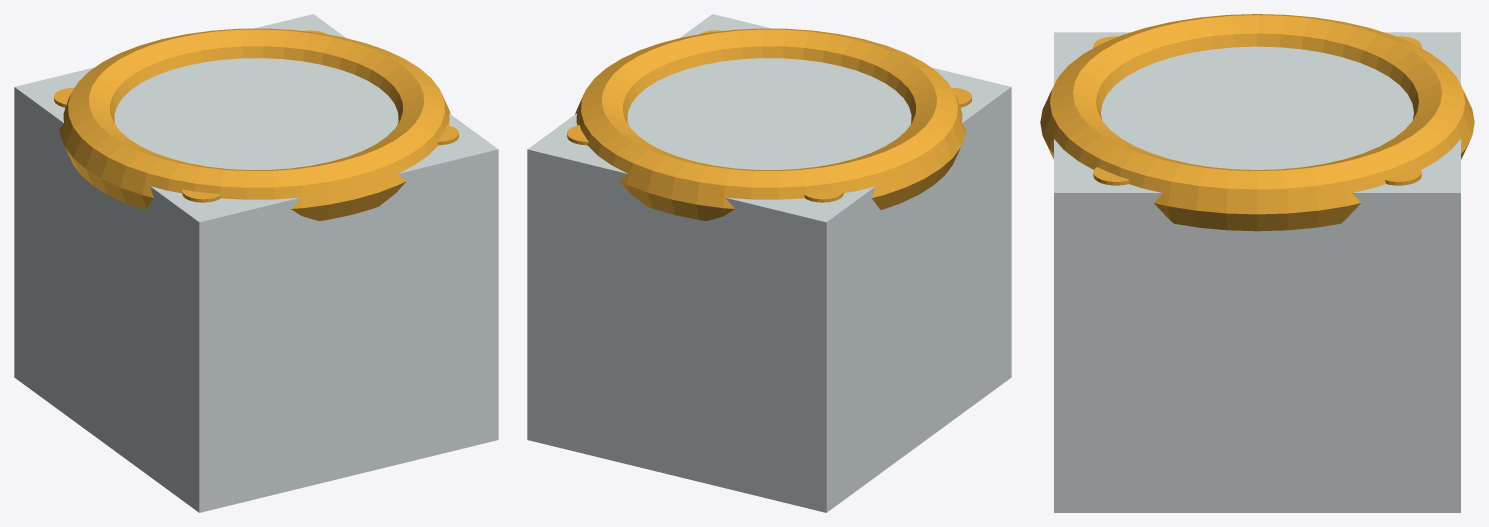
File: 07_L86_SevenAxisRobotBase.fbx
The picture shows the model from 3 angles, left to right: view 1: azimuth 30°, elevation 25°; view 2: azimuth 150°, elevation 25°; view 3: azimuth 270°, elevation 25°; orthographic projection. The views are drawn at different scales.
Visible parts, largest first — view 1: L86_SevenAxisRobotBase; view 2: L86_SevenAxisRobotBase; view 3: L86_SevenAxisRobotBase.
Boxes of the visible parts, box(x1,y1,x2,y2) form: L86_SevenAxisRobotBase: box(14, 14, 498, 512); L86_SevenAxisRobotBase: box(527, 14, 1011, 512); L86_SevenAxisRobotBase: box(1040, 14, 1474, 512).
Size of the model in its own units: 160 by 138 by 160.
